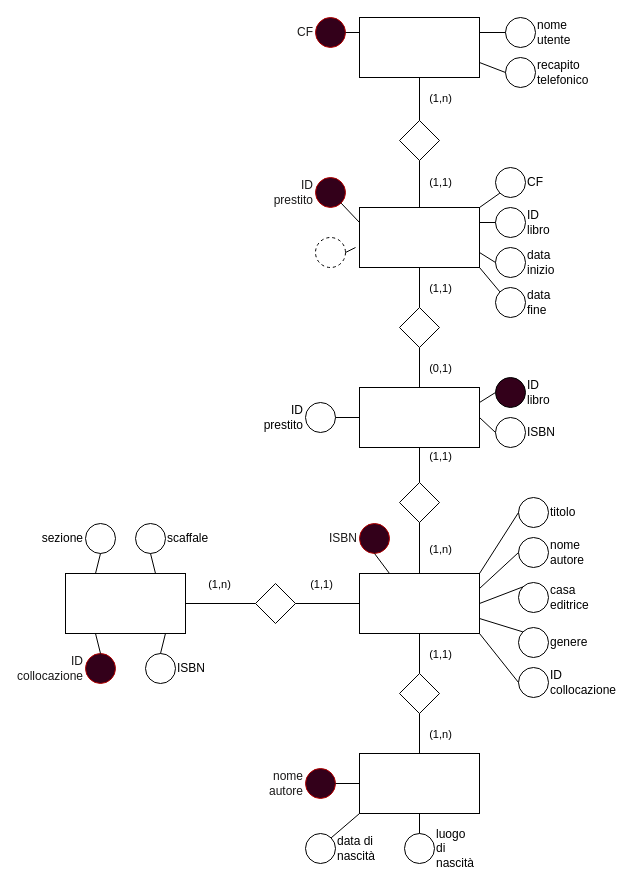
Some shapes in this 633 by 887 pixel diagram are drawn without their labels. Each missing label, with the box of its shape:
AUTORE: (358, 752, 480, 814)
COLLOCAZIONE: (64, 572, 186, 634)
COPIE LIBRO: (358, 386, 480, 448)
LIBRO: (358, 572, 480, 634)
PRESTITO: (358, 206, 480, 268)
ritardo: (314, 236, 346, 268)
UTENTI: (358, 16, 480, 78)
